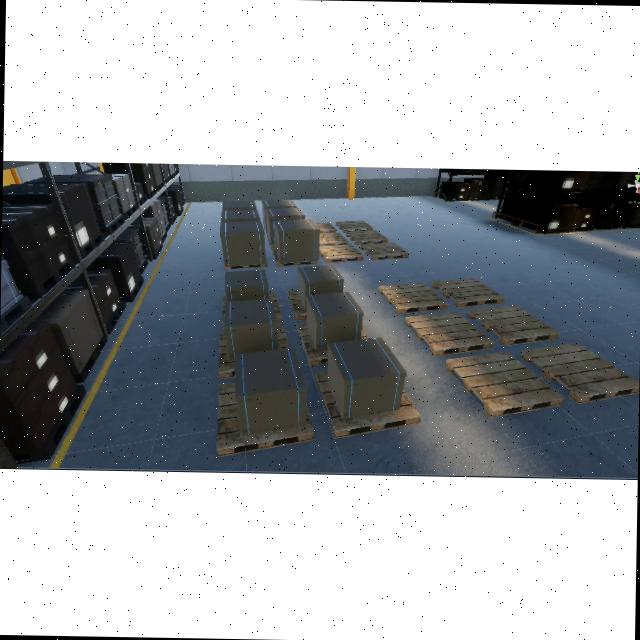wooden_pallet: (444, 351, 564, 417), (518, 342, 639, 403), (218, 383, 315, 458), (315, 371, 420, 439), (404, 312, 494, 357), (466, 304, 559, 346), (378, 283, 448, 314), (432, 277, 504, 307), (360, 242, 408, 260), (319, 244, 364, 262), (346, 230, 388, 244), (334, 220, 373, 233)
